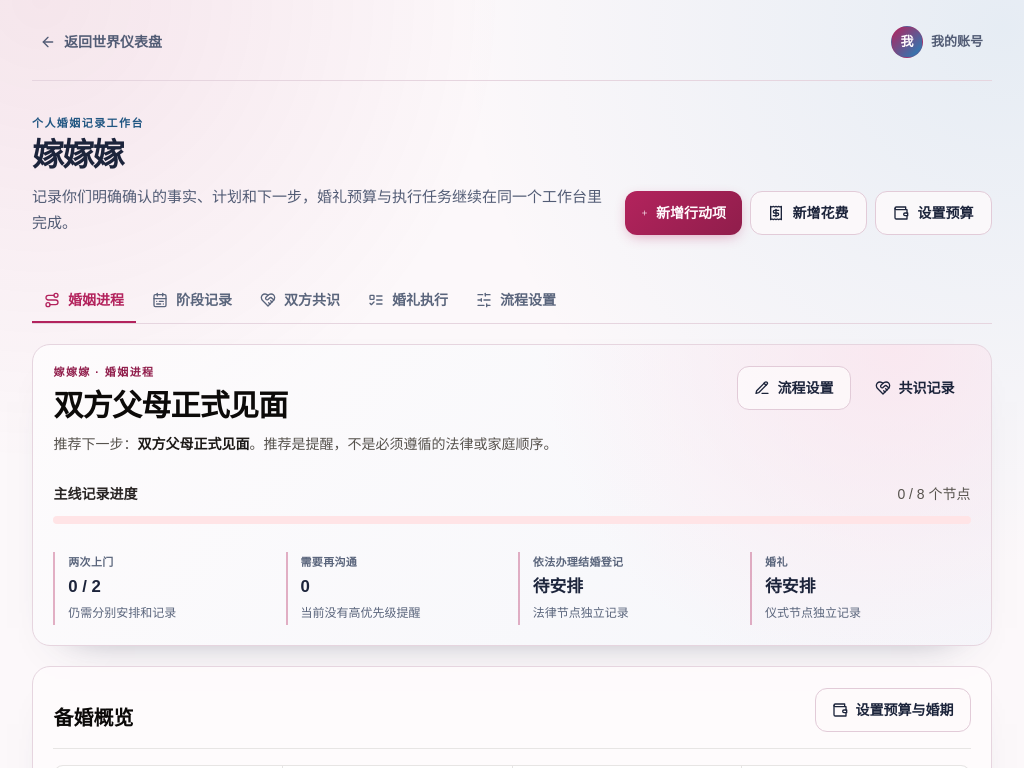
Wedding page › updates a node through the record dialog without treating parents as approval
This screenshot has width=1024, height=768.
Click the tab "阶段记录" at (192, 301), box x1=140 y1=279 x2=244 y2=323
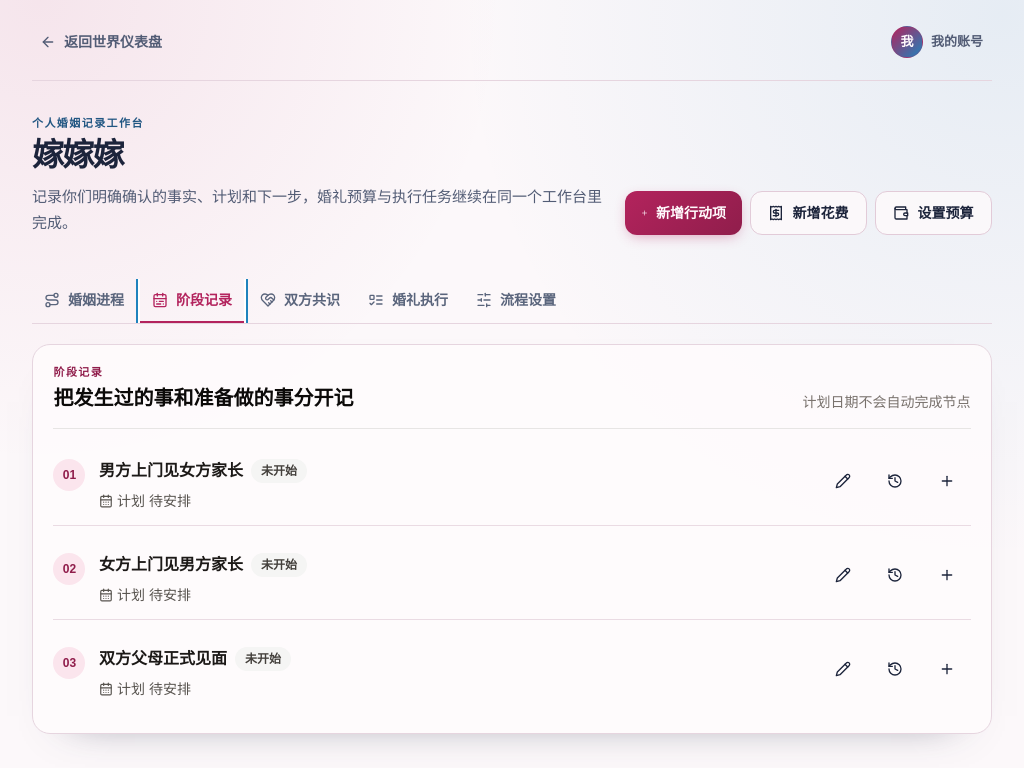
Click the button named "记录双方父母正式见面" at (842, 668), box x1=818 y1=646 x2=866 y2=690
(page scrolled)
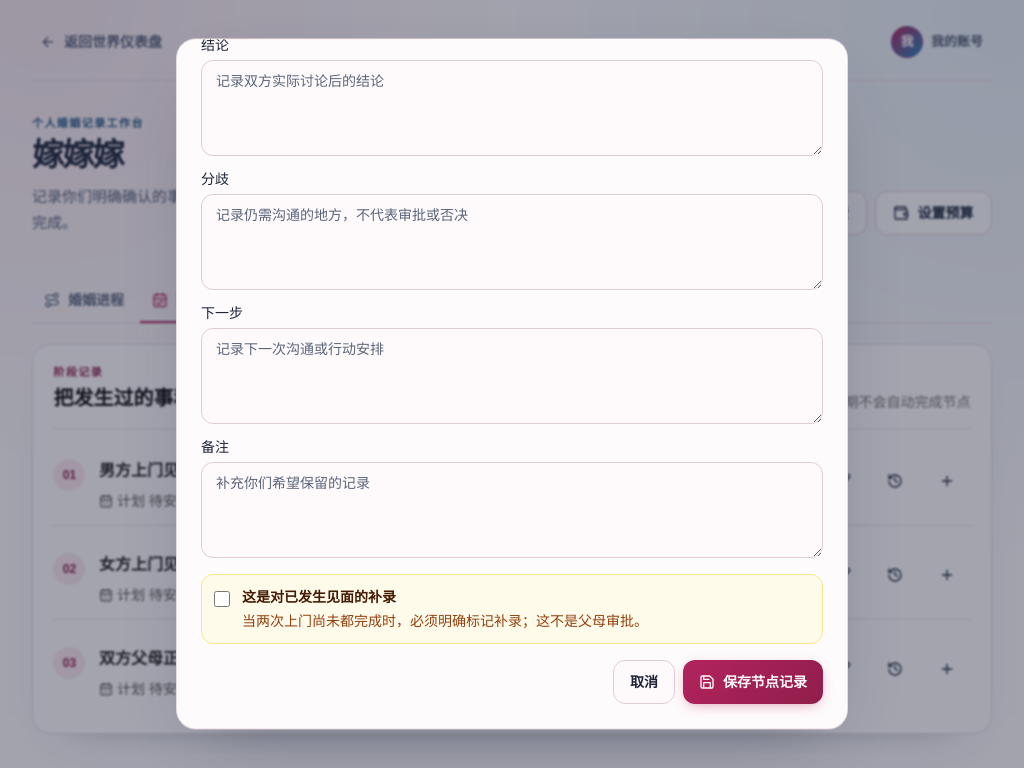
Expected: the text "当两次上门尚未都完成时，必须明确标记补录；这不是父母审批。" is shown, x1=242 y1=611 x2=648 y2=631
